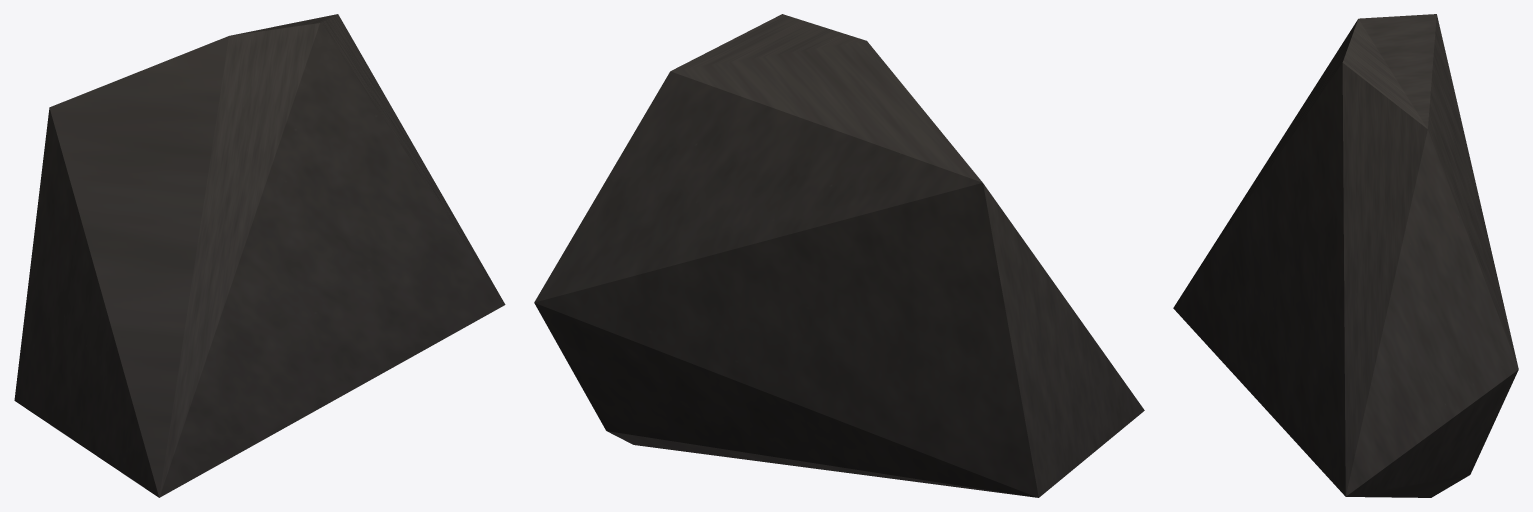
The model's file is cluster_shard.glb.
The picture shows the model from 3 angles, left to right: view 1: azimuth 30°, elevation 25°; view 2: azimuth 150°, elevation 25°; view 3: azimuth 270°, elevation 25°; orthographic projection. The views are drawn at different scales.
Parts seen in each view (by area): view 1: cluster_shard; view 2: cluster_shard; view 3: cluster_shard.
Part boxes in pixels (x1,y1,x2,y2): cluster_shard: (14, 14, 505, 497); cluster_shard: (534, 14, 1144, 497); cluster_shard: (1173, 14, 1518, 497).
Bounding box in the file's own units: 0.12 × 0.0955 × 0.0764.
1 material, 1 textured.
